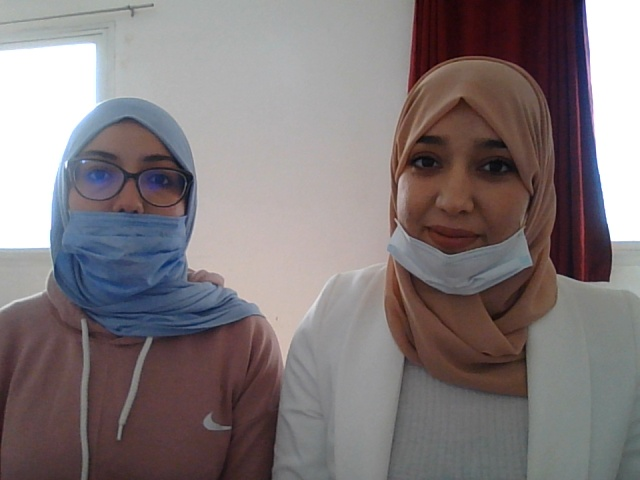mask_weared_incorrect: (370, 56, 555, 293), (47, 103, 181, 307)
